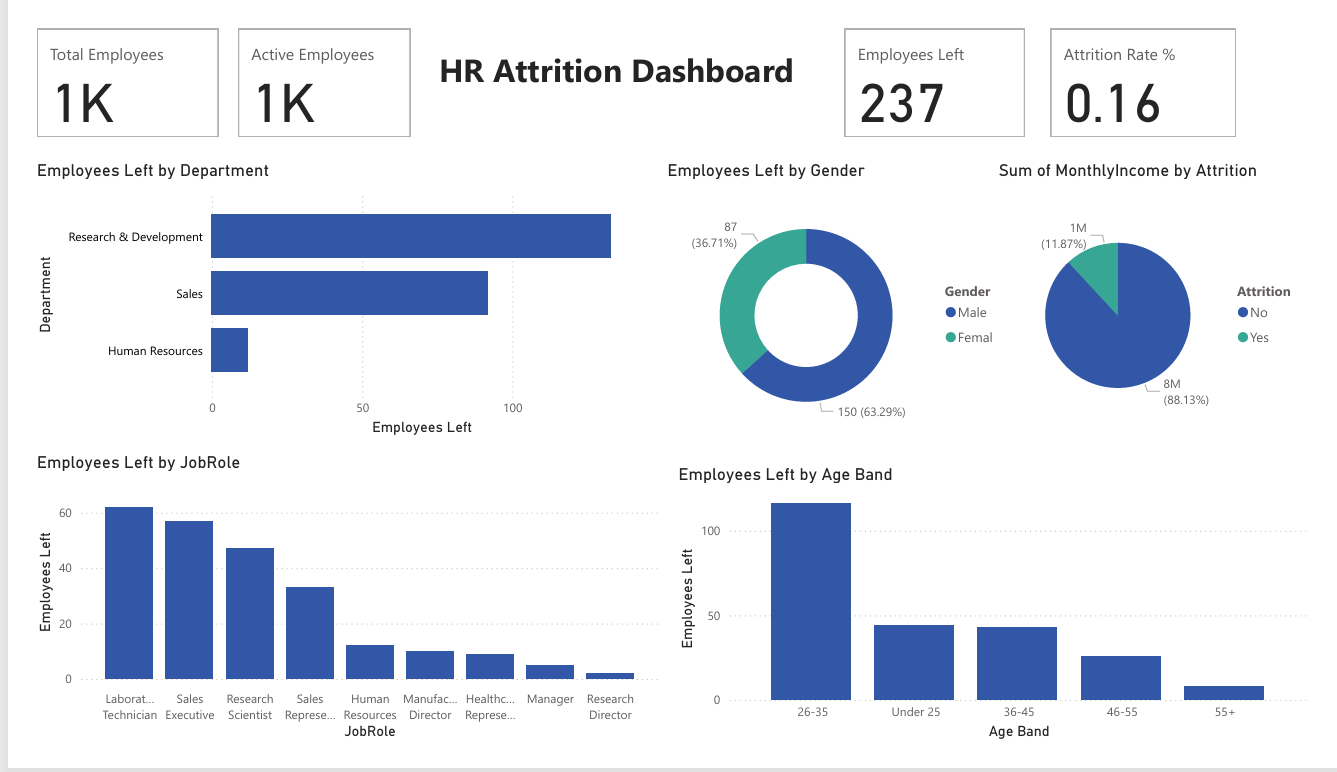

This screenshot's page, from the dashboard's own definition file:
{"tool":"powerbi","page":{"name":"Page 1","canvas":[1280,720],"ordinal":0},"visuals":[{"type":"cardVisual","fields":{"Data":["HR_Employee_Attrition_Cleaned.Total Employees"]},"box":[0,0,192,118.6],"z":0},{"type":"cardVisual","fields":{"Data":["HR_Employee_Attrition_Cleaned.Active Employees"]},"box":[200.5,0,182.2,118.6],"z":1000},{"type":"cardVisual","fields":{"Data":["HR_Employee_Attrition_Cleaned.Employees Left"]},"box":[807.1,0,190.8,118.6],"z":2000},{"type":"cardVisual","fields":{"Data":["HR_Employee_Attrition_Cleaned.Attrition Rate %"]},"box":[1012.5,0,195.7,118.6],"z":3000},{"type":"clusteredBarChart","fields":{"Category":["HR_Employee_Attrition_Cleaned.Department"],"Y":["HR_Employee_Attrition_Cleaned.Employees Left"]},"box":[0,135.7,615.1,280],"z":4000},{"type":"donutChart","fields":{"Category":["HR_Employee_Attrition_Cleaned.Gender"],"Y":["HR_Employee_Attrition_Cleaned.Employees Left"]},"box":[629.8,135.7,353.4,292.3],"z":5000},{"type":"columnChart","fields":{"Category":["HR_Employee_Attrition_Cleaned.Age Band"],"Y":["HR_Employee_Attrition_Cleaned.Employees Left"]},"box":[640.8,440.2,639.5,280],"z":6000},{"type":"clusteredColumnChart","fields":{"Category":["HR_Employee_Attrition_Cleaned.JobRole"],"Y":["HR_Employee_Attrition_Cleaned.Employees Left"]},"box":[0,428,631,292.3],"z":7000},{"type":"pieChart","fields":{"Category":["HR_Employee_Attrition_Cleaned.Attrition"],"Y":["Sum(HR_Employee_Attrition_Cleaned.MonthlyIncome)"]},"box":[961.1,135.7,319.2,292.3],"z":8000},{"type":"textbox","box":[396.2,18.3,375.4,83.2],"z":9000}]}

Visuals, with their boxes in screenshot pixels (x1, y1, x2, y2), scaled from the page's 1280x720 canvas onto the 1337x772 screenshot:
cardVisual - HR_Employee_Attrition_Cleaned.Total Employees: (x1=0, y1=0, x2=201, y2=127)
cardVisual - HR_Employee_Attrition_Cleaned.Active Employees: (x1=209, y1=0, x2=400, y2=127)
cardVisual - HR_Employee_Attrition_Cleaned.Employees Left: (x1=843, y1=0, x2=1042, y2=127)
cardVisual - HR_Employee_Attrition_Cleaned.Attrition Rate %: (x1=1058, y1=0, x2=1262, y2=127)
clusteredBarChart - HR_Employee_Attrition_Cleaned.Department x HR_Employee_Attrition_Cleaned.Employees Left: (x1=0, y1=146, x2=642, y2=446)
donutChart - HR_Employee_Attrition_Cleaned.Gender x HR_Employee_Attrition_Cleaned.Employees Left: (x1=658, y1=146, x2=1027, y2=459)
columnChart - HR_Employee_Attrition_Cleaned.Age Band x HR_Employee_Attrition_Cleaned.Employees Left: (x1=669, y1=472, x2=1336, y2=771)
clusteredColumnChart - HR_Employee_Attrition_Cleaned.JobRole x HR_Employee_Attrition_Cleaned.Employees Left: (x1=0, y1=459, x2=659, y2=771)
pieChart - HR_Employee_Attrition_Cleaned.Attrition x Sum(HR_Employee_Attrition_Cleaned.MonthlyIncome): (x1=1004, y1=146, x2=1336, y2=459)
textbox: (x1=414, y1=20, x2=806, y2=109)
